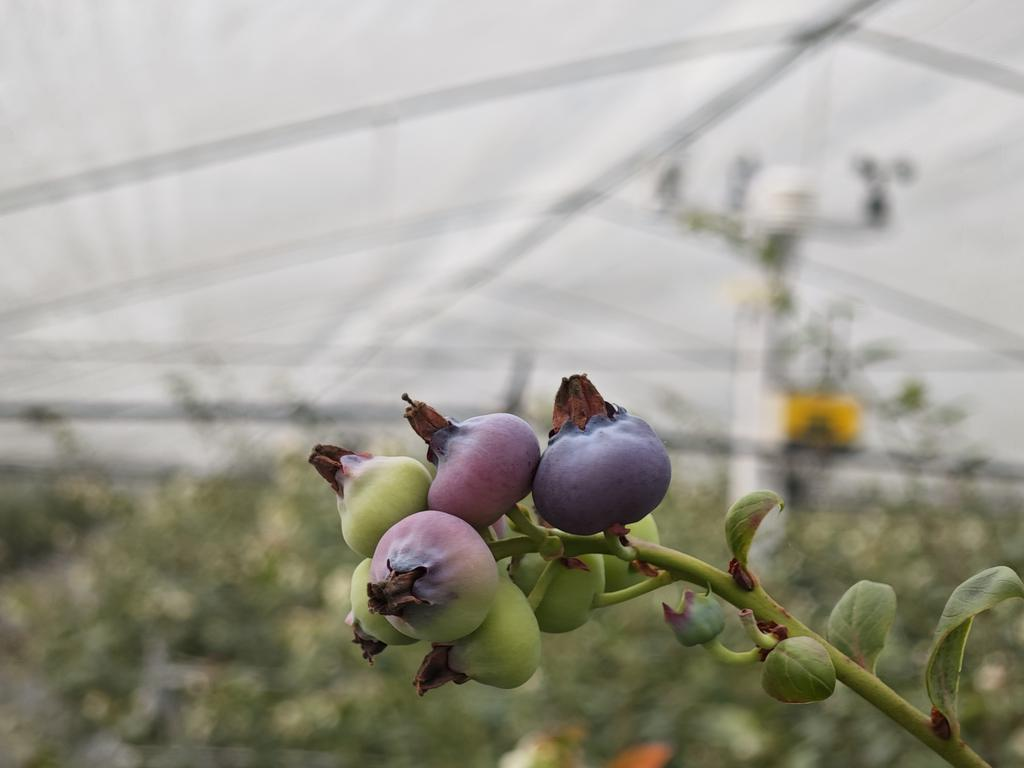RipeBlueBerry: (531, 411, 672, 536)
Semi-RipeBlueBerry: (427, 411, 540, 522)
UnripeBlueBerry: (370, 508, 500, 646), (334, 453, 433, 555)
